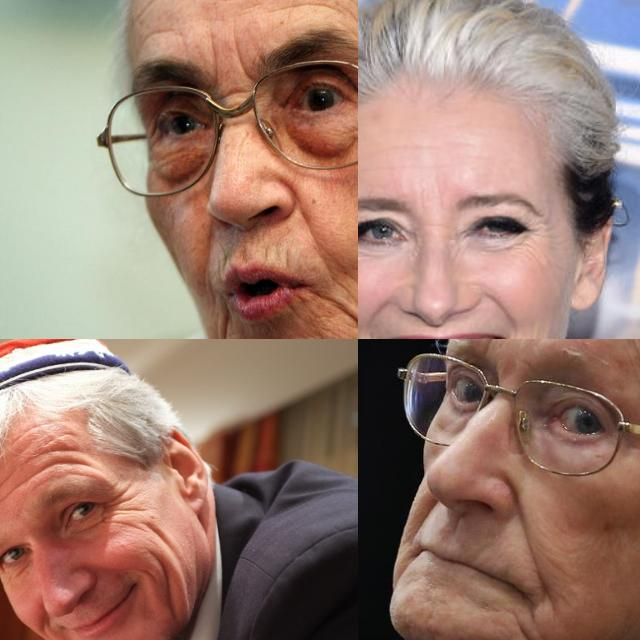crows_feet: (526, 215, 556, 262), (103, 484, 139, 522)
forehead: (39, 434, 79, 468), (278, 0, 341, 18), (0, 473, 27, 508), (619, 339, 640, 384), (140, 21, 176, 44), (201, 0, 249, 9)
frown_line: (233, 47, 254, 81), (208, 42, 222, 86)
gummy_smile: (516, 500, 544, 576), (486, 290, 520, 326), (360, 292, 398, 324), (409, 498, 438, 536), (294, 194, 316, 236)
masseter: (156, 561, 182, 611), (142, 515, 172, 551)
sad_smile: (321, 289, 358, 339), (514, 594, 548, 640), (395, 550, 419, 588), (215, 310, 233, 339)
smoker_lines: (280, 248, 294, 270), (219, 252, 229, 274), (260, 243, 270, 264)
